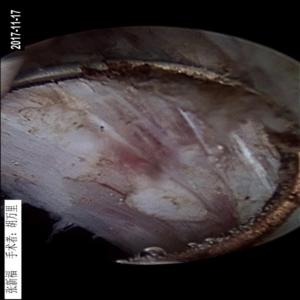film: (61, 81, 269, 241)
